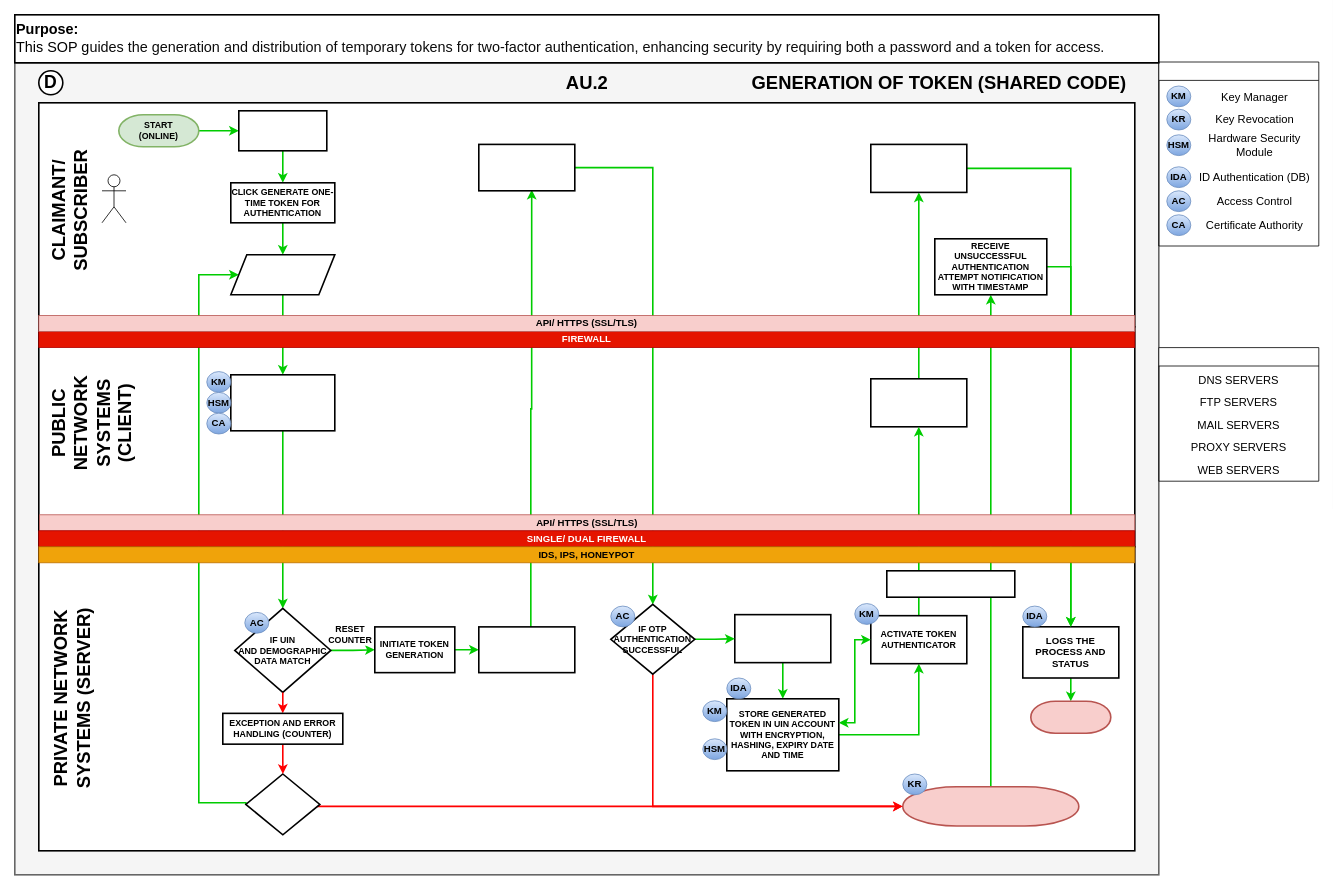
Some shapes in this 1333 by 889 pixel diagram are drawn without their labels. Here are the shapes that lost their labels. From the top down, the box of each, then its label:
(238, 110, 327, 151): VISIT DID PORTAL
(478, 143, 575, 191): AUTHENTICATE USING OTP AU.2.C
(870, 143, 967, 193): RECEIVE TOKEN DETAILS ON EMAIL/SMS
(1158, 61, 1319, 246): LEGEND
(101, 174, 126, 223): USER
(230, 254, 335, 295): ENTER UIN AND DEMOGRAPHIC DATA
(230, 374, 335, 431): MASK & ENCRYPT UIN AND DEMOGRAPHIC DATA FOR VERIFICATION
(870, 378, 967, 427): DISPLAY GENERATED TOKEN ON DISPLAY FOR SUBSCRIBER
(1158, 347, 1319, 481): PUBLIC NETWORK
(886, 570, 1015, 598): NOTIFICATION GENERATOR
(478, 626, 575, 673): GENERATE OTP FOR SUBSCRIBER AUTHENTICATION AU.2.A
(734, 613, 831, 663): GENERATE TOKEN WITH EXPIRY DATE AND TIME
(1030, 700, 1111, 734): END
(245, 773, 320, 835): IF RETRY COUNT <=3
(902, 786, 1079, 826): TERMINATE PROCESS: RECORD TIMESTAMP AND ATTEMPT
